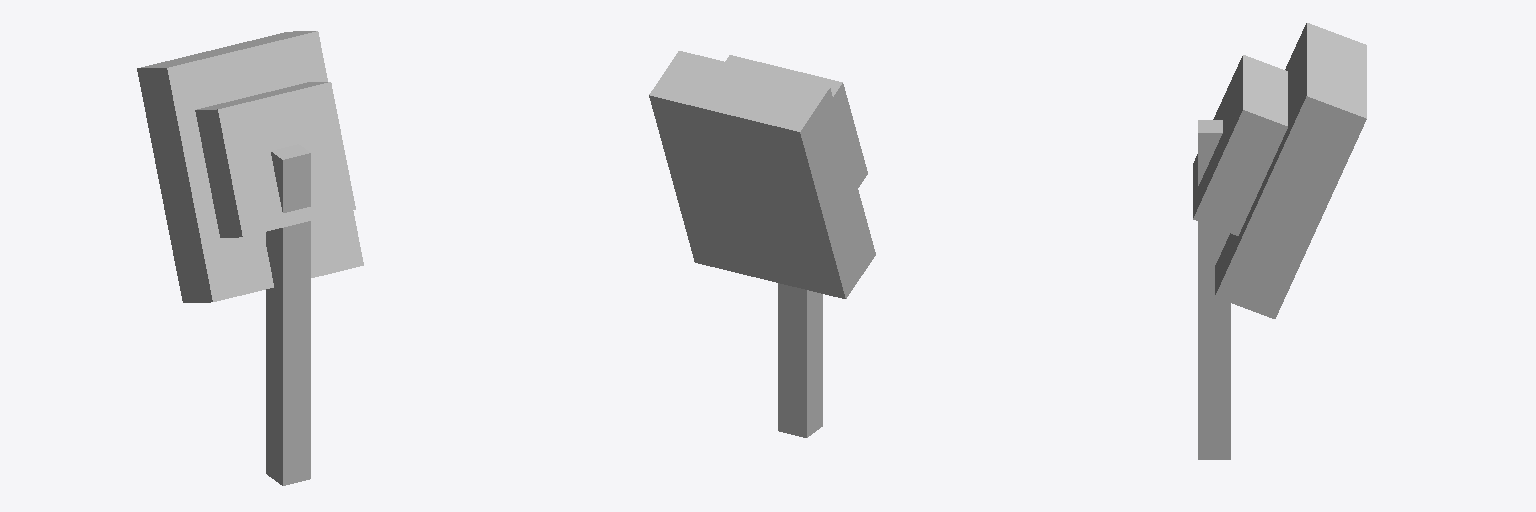
Rendered from rua_orelhao.obj.
The picture shows the model from 3 angles: view 1: azimuth 30°, elevation 25°; view 2: azimuth 150°, elevation 25°; view 3: azimuth 270°, elevation 25°; orthographic projection.
Visible parts, largest first — view 1: orelhao, fundo, estaca; view 2: orelhao, estaca, fundo; view 3: orelhao, fundo, estaca.
Part boxes in pixels (left/top/right/bottom): orelhao: left=137, top=31, right=363, bottom=302; fundo: left=195, top=82, right=355, bottom=237; estaca: left=266, top=144, right=310, bottom=485; orelhao: left=649, top=51, right=875, bottom=298; estaca: left=778, top=283, right=822, bottom=437; fundo: left=725, top=55, right=867, bottom=187; orelhao: left=1215, top=23, right=1366, bottom=318; fundo: left=1193, top=55, right=1287, bottom=235; estaca: left=1198, top=120, right=1230, bottom=459.
Bounding box in the file's own units: 1 × 2.49 × 0.9979.